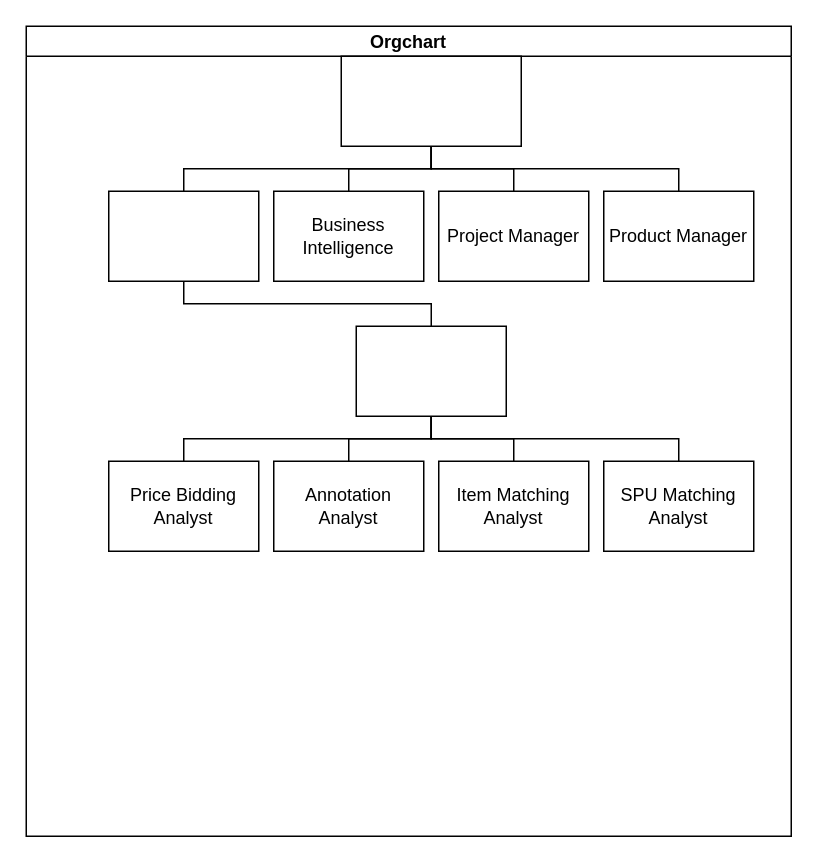
Some shapes in this 818 by 863 pixel diagram are drawn without their labels. The shapes that lost their labels are listed below. From the top down, each one's centre as x and y in pixels, then its label:
At pixel 430 100: "Campaign Pricematch Lead".
At pixel 183 235: "Relationship Manager".
At pixel 430 370: "Sr./Jr. QC Reporting Manager".
